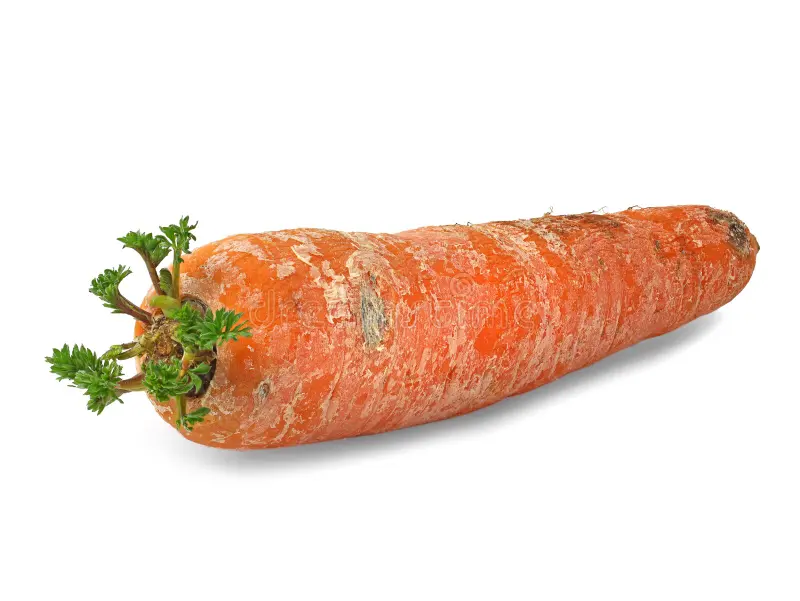rotten carrot: (38, 179, 800, 464)
